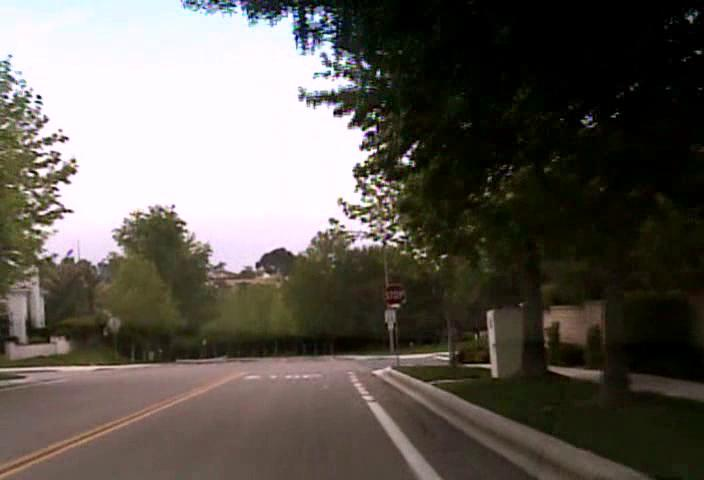stop: (381, 283, 404, 305)
